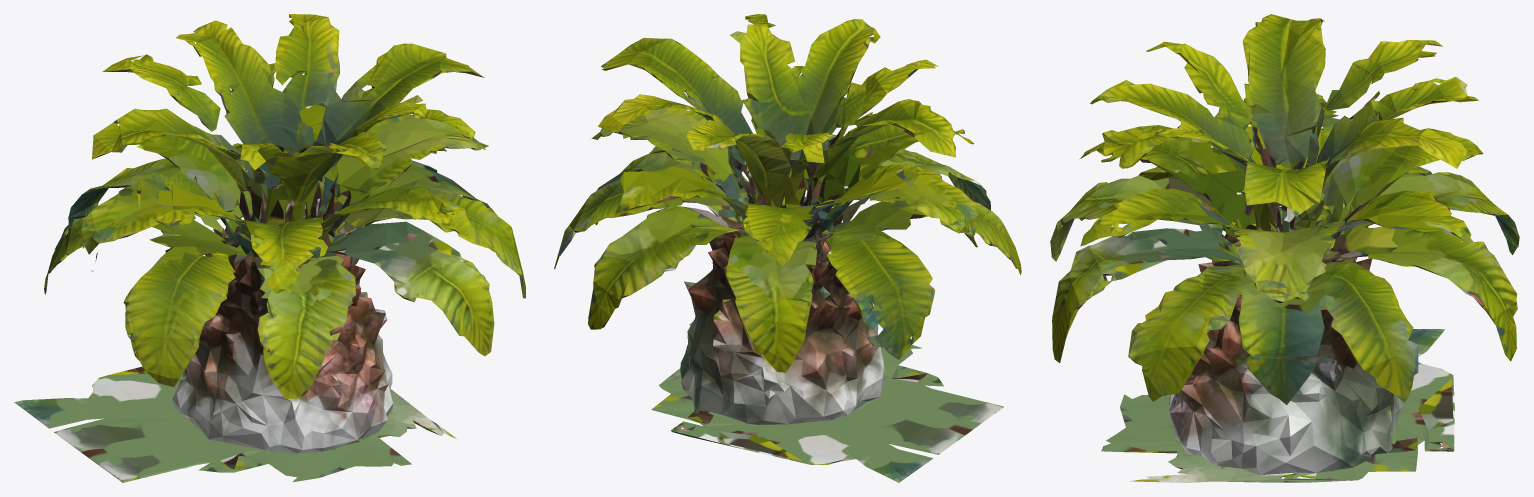
Rendered from dino_cycad_1117.glb.
3 views of the same model, side by side, from view 1: azimuth 30°, elevation 25°; view 2: azimuth 150°, elevation 25°; view 3: azimuth 270°, elevation 25° (orthographic). The views are drawn at different scales.
Parts seen in each view (by area): view 1: tmptn2tswqz.ply; view 2: tmptn2tswqz.ply; view 3: tmptn2tswqz.ply.
Boxes of the visible parts, box(x1,y1,x2,y2) form: tmptn2tswqz.ply: box(14, 14, 525, 482); tmptn2tswqz.ply: box(554, 14, 1021, 482); tmptn2tswqz.ply: box(1050, 14, 1519, 482).
Size of the model in its own units: 2 by 1.57 by 1.92.
1 material, 1 textured.
